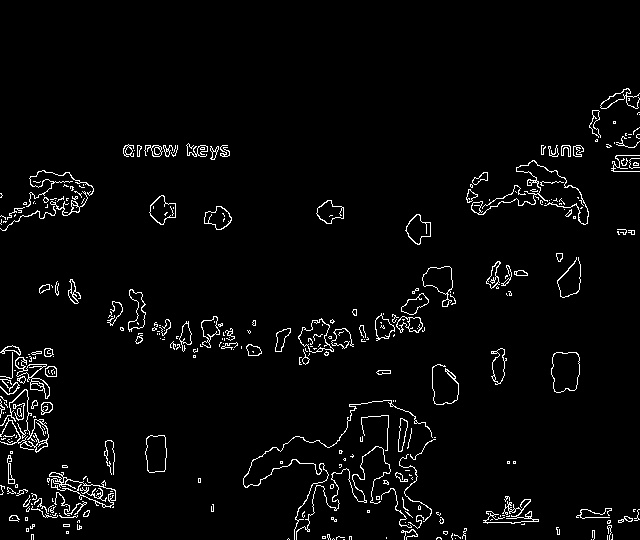left: (392, 210, 438, 252), (138, 191, 185, 230), (307, 195, 353, 232)
right: (198, 202, 244, 237)
